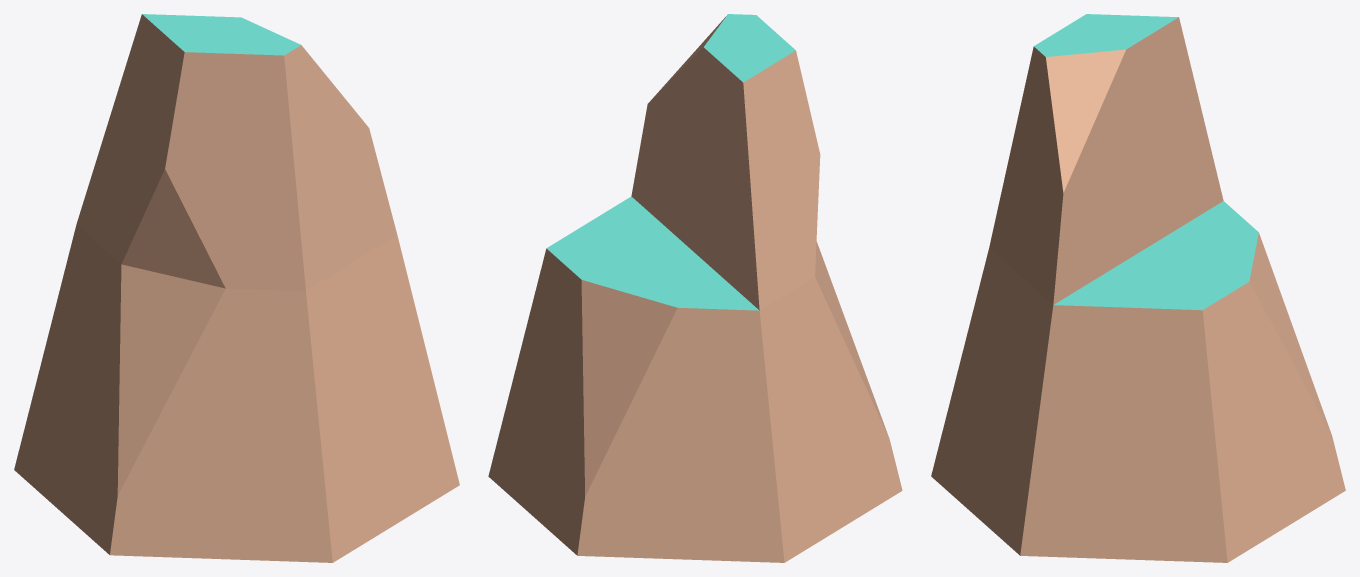
File: rock_tallJ.glb
3 views of the same model, side by side, from view 1: azimuth 30°, elevation 25°; view 2: azimuth 150°, elevation 25°; view 3: azimuth 270°, elevation 25° (orthographic). The views are drawn at different scales.
Visible parts, largest first — view 1: rock_tallJ; view 2: rock_tallJ; view 3: rock_tallJ.
Part boxes in pixels (left/top/right/bottom): rock_tallJ: left=14, top=14, right=459, bottom=562; rock_tallJ: left=488, top=14, right=902, bottom=562; rock_tallJ: left=931, top=14, right=1345, bottom=562.
Size of the model in its own units: 0.4879 by 0.62 by 0.5382.
Materials: 1 (1 with a texture image).
